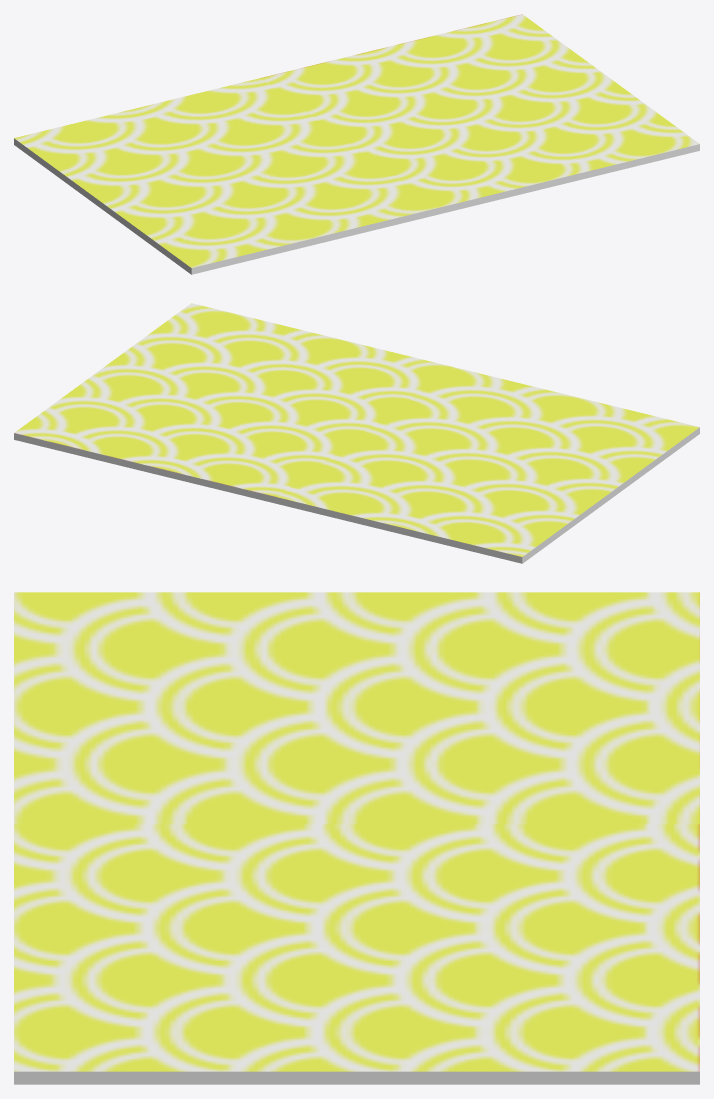
3 views of the same model, one above another, from view 1: azimuth 30°, elevation 25°; view 2: azimuth 150°, elevation 25°; view 3: azimuth 270°, elevation 25° (orthographic). The views are drawn at different scales.
Parts seen in each view (by area): view 1: Mat_B; view 2: Mat_B; view 3: Mat_B.
Part boxes in pixels (x1,y1,x2,y2): Mat_B: [14, 14, 699, 274]; Mat_B: [14, 303, 699, 563]; Mat_B: [14, 592, 699, 1084].
Bounding box in the file's own units: 268 × 3.38 × 162.
